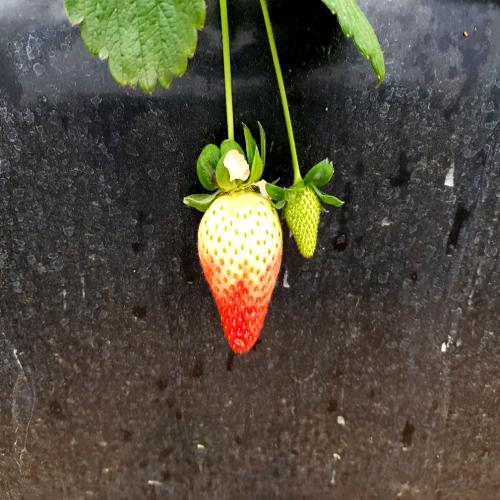partially-ripe: (196, 173, 287, 369)
